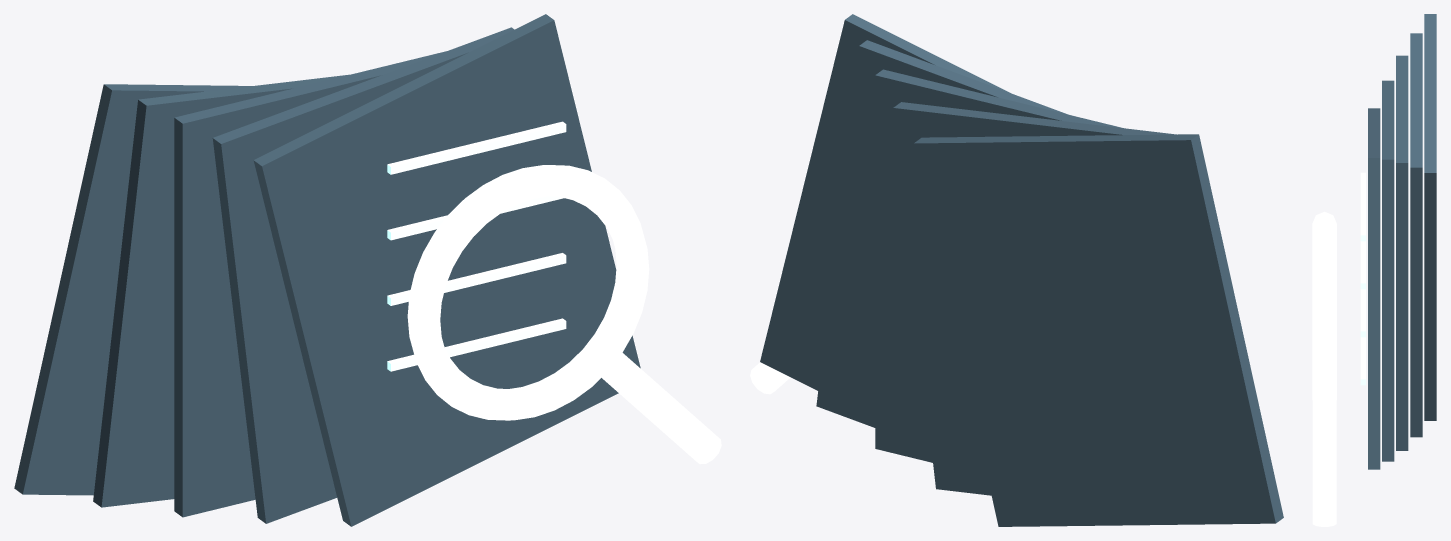
File: plan_08.glb
3 renders of one model, left to right at view 1: azimuth 30°, elevation 25°; view 2: azimuth 150°, elevation 25°; view 3: azimuth 270°, elevation 25°, orthographic. The views are drawn at different scales.
Parts seen in each view (by area): view 1: doc4, doc3, doc2, doc1, doc0, scan_ring, scan_handle, text4_0, text4_3, text4_2, text4_1; view 2: doc0, doc1, doc2, doc3, doc4, scan_handle; view 3: doc0, doc1, doc2, doc3, doc4, scan_ring, scan_handle, text4_0, text4_1, text4_2, text4_3.
Part boxes in pixels (x1,y1,x2,y2): doc4: (253,14,640,526); doc3: (212,27,514,523); doc2: (174,51,446,517); doc1: (93,74,349,507); doc0: (14,84,251,495); scan_ring: (407,165,649,420); scan_handle: (601,353,721,464); text4_0: (387,121,566,174); text4_3: (387,318,566,371); text4_2: (387,253,566,305); text4_1: (387,196,563,240); doc0: (913,134,1283,526); doc1: (893,102,1176,495); doc2: (875,69,1123,462); doc3: (816,40,1067,427); doc4: (760,14,1009,390); scan_handle: (750,362,790,394); doc0: (1424,14,1436,420); doc1: (1410,33,1422,437); doc2: (1396,55,1408,450); doc3: (1382,80,1394,461); doc4: (1368,108,1380,469); scan_ring: (1312,211,1336,402); scan_handle: (1312,396,1336,526); text4_0: (1360,172,1365,241); text4_1: (1360,241,1365,289); text4_2: (1360,289,1365,337); text4_3: (1360,337,1365,385).
Size of the model in its own units: 1.82 by 1.27 by 0.4272.
